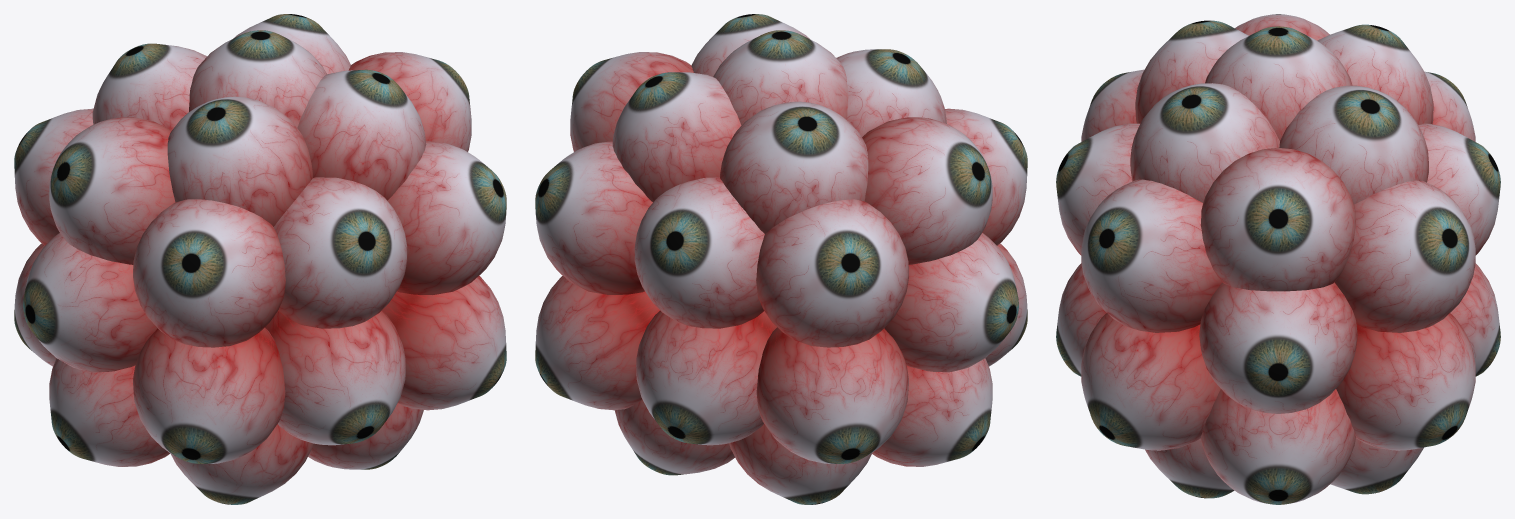
File: eyeball_head.fbx
3 views of the same model, side by side, from view 1: azimuth 30°, elevation 25°; view 2: azimuth 150°, elevation 25°; view 3: azimuth 270°, elevation 25° (orthographic).
Parts seen in each view (by area): view 1: Eye6 (×2), Eye2 (×2), Eye13 (×2), Eye9 (×2), Eye11 (×2), Eye1, Eye8 (×2), Eye15, Eye7, Eye10, Eye4, Eye12 (+1 smaller); view 2: Eye4 (×2), Eye5 (×2), Eye3 (×2), Eye13 (×2), Eye10 (×2), Eye12 (×2), Eye7, Eye8 (×2), Eye11, Eye6, Eye9, Eye2; view 3: Eye8, Eye6 (×2), Eye14, Eye2, Eye4 (×2), Eye3, Eye7 (×2), Eye9, Eye12, Eye10 (×2), Eye5 (×2), Eye13 (+3 smaller).
Part boxes in pixels (x1,y1,x2,y2): Eye6 (×2): [133, 199, 506, 410]; Eye2 (×2): [133, 141, 506, 463]; Eye13 (×2): [23, 30, 326, 372]; Eye9 (×2): [170, 69, 426, 504]; Eye11 (×2): [167, 96, 423, 469]; Eye1: [273, 177, 407, 328]; Eye8 (×2): [49, 52, 471, 466]; Eye15: [265, 310, 405, 445]; Eye7: [49, 117, 175, 264]; Eye10: [92, 43, 206, 130]; Eye4: [14, 108, 93, 245]; Eye12: [233, 14, 350, 74]; Eye4 (×2): [535, 199, 908, 410]; Eye5 (×2): [634, 177, 776, 445]; Eye3 (×2): [535, 141, 908, 463]; Eye13 (×2): [713, 30, 1018, 372]; Eye10 (×2): [614, 101, 868, 475]; Eye12 (×2): [612, 72, 872, 504]; Eye7: [862, 117, 992, 264]; Eye8 (×2): [570, 52, 992, 466]; Eye11: [836, 49, 946, 136]; Eye6: [945, 108, 1027, 245]; Eye9: [691, 14, 809, 76]; Eye2: [985, 243, 1027, 366]; Eye8: [1200, 147, 1355, 291]; Eye6 (×2): [1081, 69, 1220, 450]; Eye14: [1199, 282, 1357, 413]; Eye2: [1081, 179, 1222, 332]; Eye4 (×2): [1336, 71, 1475, 450]; Eye3: [1334, 180, 1475, 332]; Eye7 (×2): [1201, 14, 1355, 504]; Eye9: [1130, 83, 1279, 202]; Eye12: [1279, 85, 1428, 204]; Eye10 (×2): [1317, 24, 1433, 494]; Eye5 (×2): [1418, 123, 1500, 376]; Eye13: [1205, 26, 1352, 140].
Bounding box in the file's own units: 2.57 × 2.25 × 2.11.
